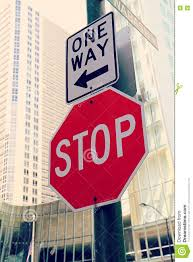Stop: (50, 103, 159, 209)
